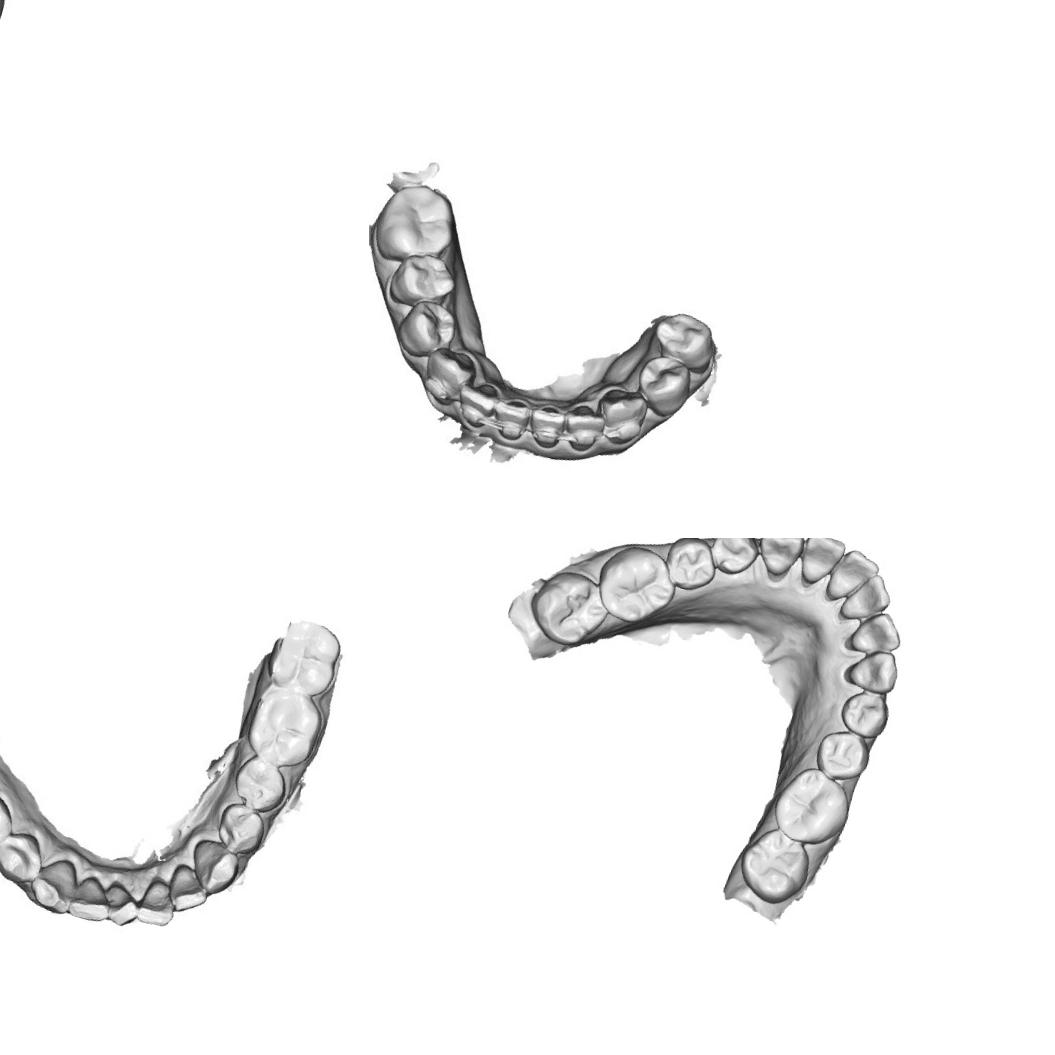canine: (420, 346, 482, 410), (840, 641, 903, 698), (596, 389, 652, 449), (24, 851, 78, 910), (190, 839, 244, 893), (750, 538, 807, 581)
incisor: (822, 543, 882, 610), (836, 566, 895, 630), (844, 604, 906, 662), (792, 538, 847, 590), (64, 870, 115, 926), (133, 876, 180, 926), (560, 401, 606, 452), (491, 390, 534, 443), (167, 862, 212, 912), (454, 377, 498, 428), (526, 398, 568, 450), (98, 880, 140, 927)
molar: (254, 606, 357, 710), (369, 174, 463, 275), (587, 538, 684, 632), (521, 561, 617, 654), (765, 758, 858, 852), (731, 820, 818, 910), (245, 680, 325, 772)
premolar: (644, 303, 719, 371), (385, 249, 461, 315), (810, 722, 875, 786), (398, 297, 459, 358), (657, 538, 720, 595), (834, 684, 893, 742), (634, 351, 690, 410), (214, 802, 268, 859), (234, 756, 288, 810), (0, 829, 46, 885), (704, 538, 764, 579), (0, 790, 17, 853)
